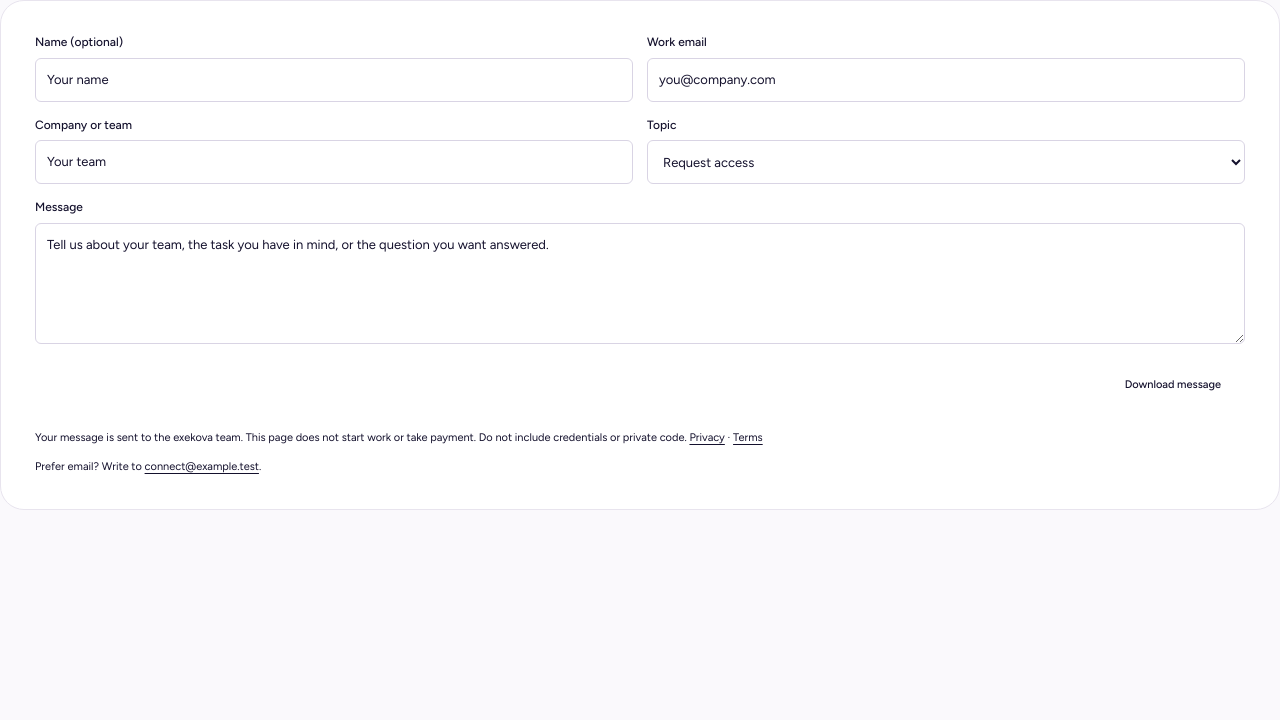
Scenario: contact requests › does not download an incomplete message
Click the button "Download message" at (1185, 385), box [1125,361,1245,409]
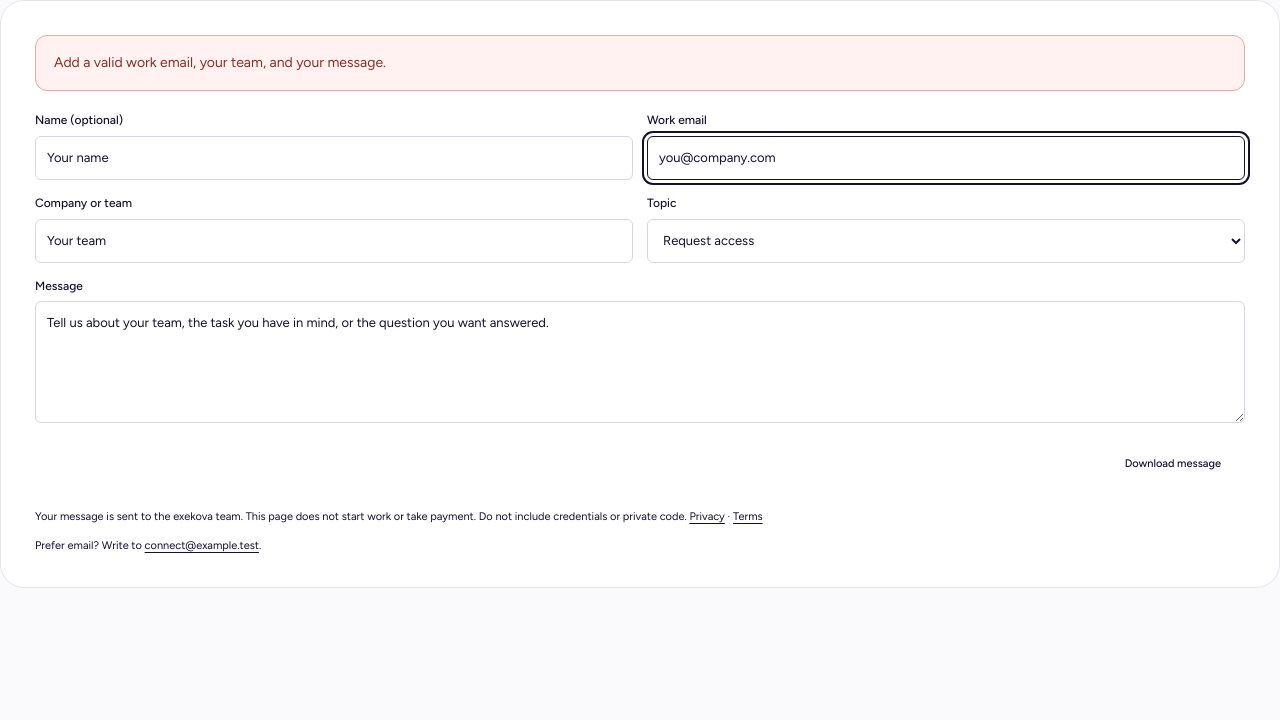
Now the message shows "valid work email", box [54,54,386,71]
